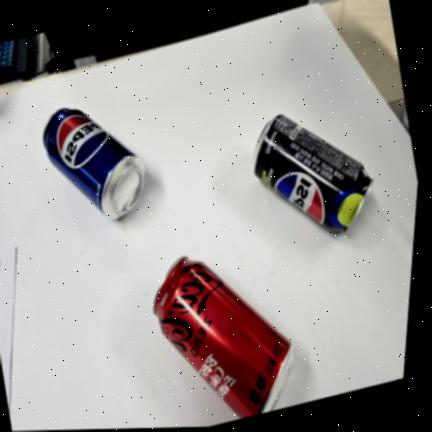can_coke_zero: (155, 257, 294, 419)
can_pepsi: (44, 108, 145, 219)
can_pepsi_zero: (253, 115, 373, 233)
